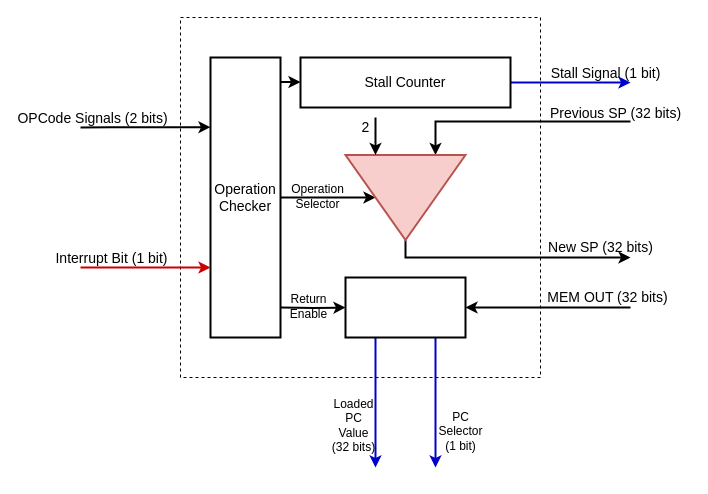
The diagram is 708 pixels wide and 494 high, and some of its shapes have lost their labels. The shapes that lost their labels are listed below. From the top down, each one's centre as x and y in pixels, then its label:
At [405,197]: "ADD/SUB".
At [405,307]: "PC Return".
